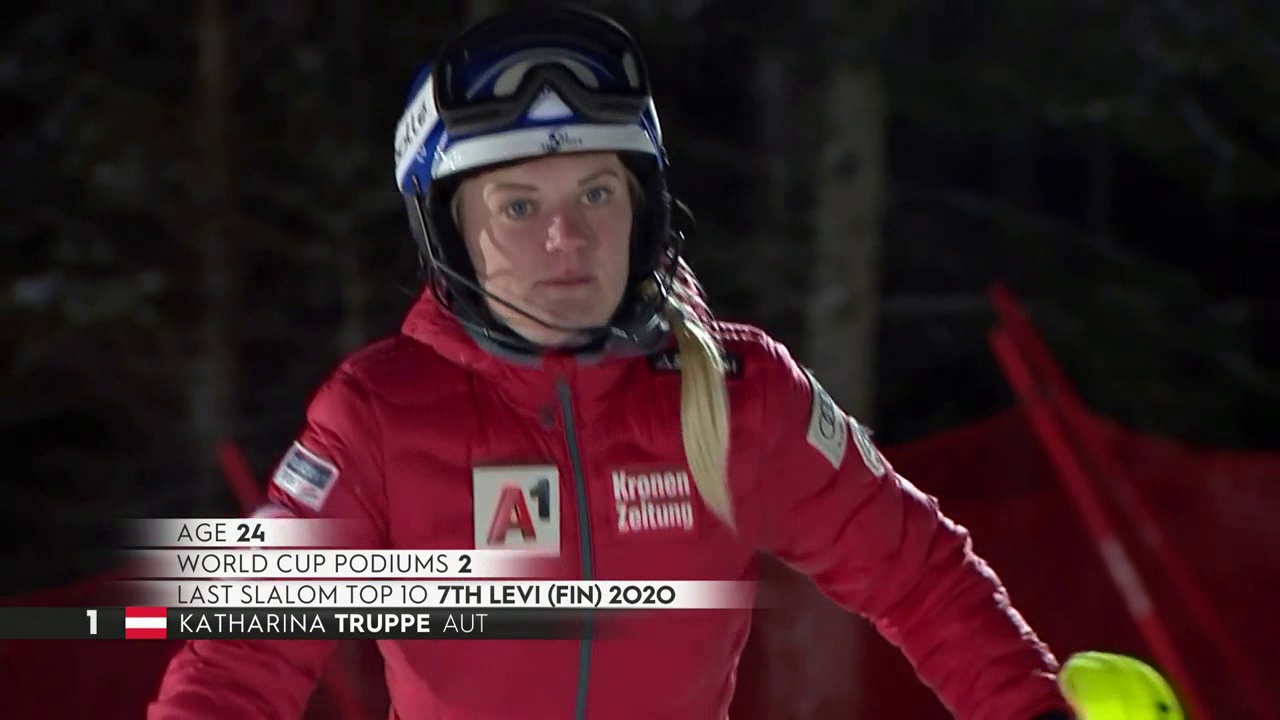a1: (481, 475, 561, 553)
